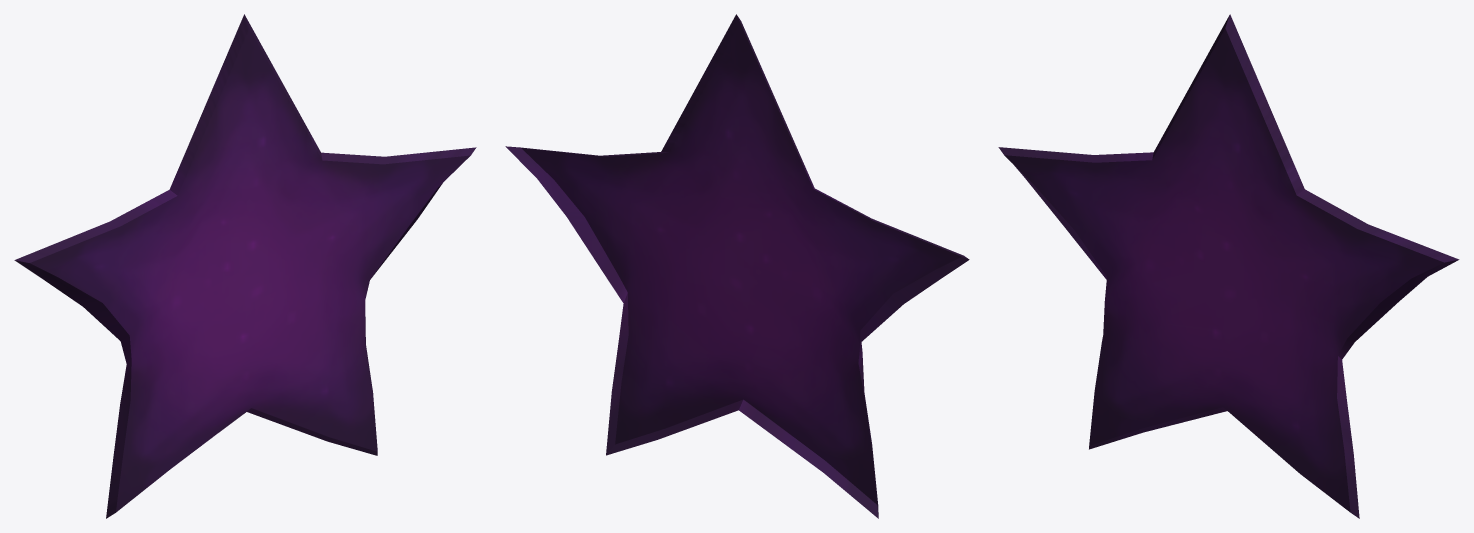
File: CardboardCutout_Star_Purple_Scaled.fbx
3 renders of one model, left to right at view 1: azimuth 30°, elevation 25°; view 2: azimuth 150°, elevation 25°; view 3: azimuth 330°, elevation 25°, orthographic.
Parts seen in each view (by area): view 1: Star2; view 2: Star2; view 3: Star2.
Part boxes in pixels (box(x1,y1,x2,y2)): Star2: box(14, 14, 476, 518); Star2: box(505, 14, 969, 518); Star2: box(998, 14, 1459, 518).
Bounding box in the file's own units: 128 × 125 × 3.74.
